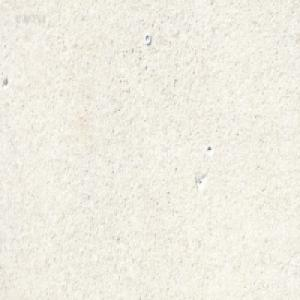Washer: (144, 32, 151, 45)
